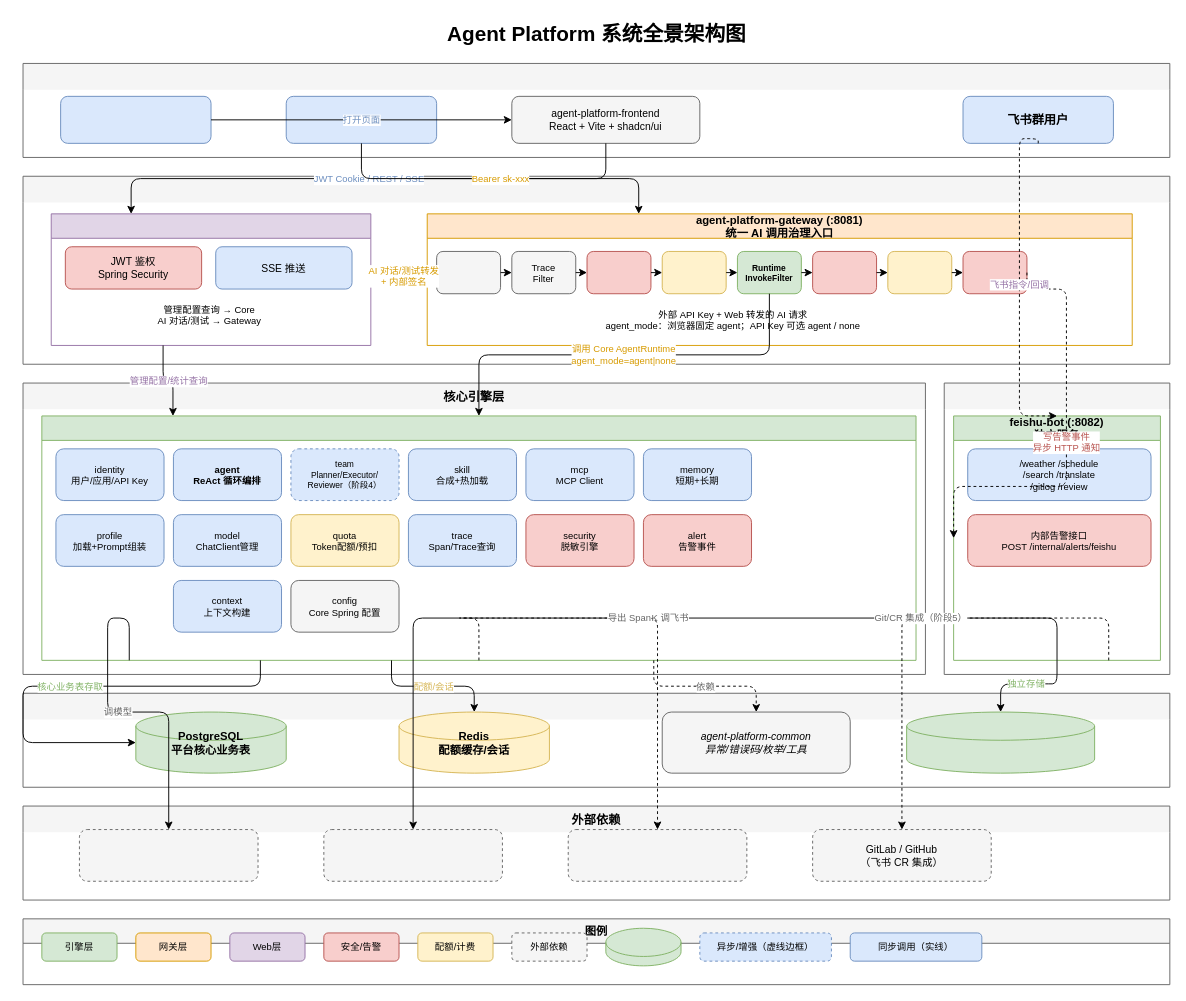
Some shapes in this 1186 by 1001 pixel diagram are drawn without their labels. Each missing label, with the box of its shape:
agent-platform-core（引擎层 — 平台大脑，14 个逻辑包）: (41, 415, 916, 660)
agent-platform-web (:8080) 浏览器/管理入口: (50, 213, 371, 345)
Alert EventFilter: (962, 251, 1027, 294)
feishu-bot 独立配置库 配置 / 告警日志: (906, 711, 1095, 773)
Jaeger / OTel Trace 收集与查询: (567, 829, 747, 881)
Quota Filter: (661, 251, 726, 294)
Sensitive DataFilter: (586, 251, 651, 294)
Sensitive RespFilter: (812, 251, 877, 294)
Tenant Filter: (436, 251, 501, 294)
Token RecordFilter: (887, 251, 952, 294)
入口层: (22, 63, 1170, 157)
基础设施层: (22, 692, 1170, 787)
开发者代码/工具 API Key 入口: (285, 95, 437, 143)
数据库: (605, 927, 681, 966)
模型 API OpenAI / 通义千问 / 本地: (78, 829, 258, 881)
浏览器用户 JWT 入口: (60, 95, 211, 143)
独立服务层: (943, 382, 1170, 674)
通道层: (22, 175, 1170, 364)
飞书 API 消息 / 日历 / 群组: (323, 829, 502, 881)
